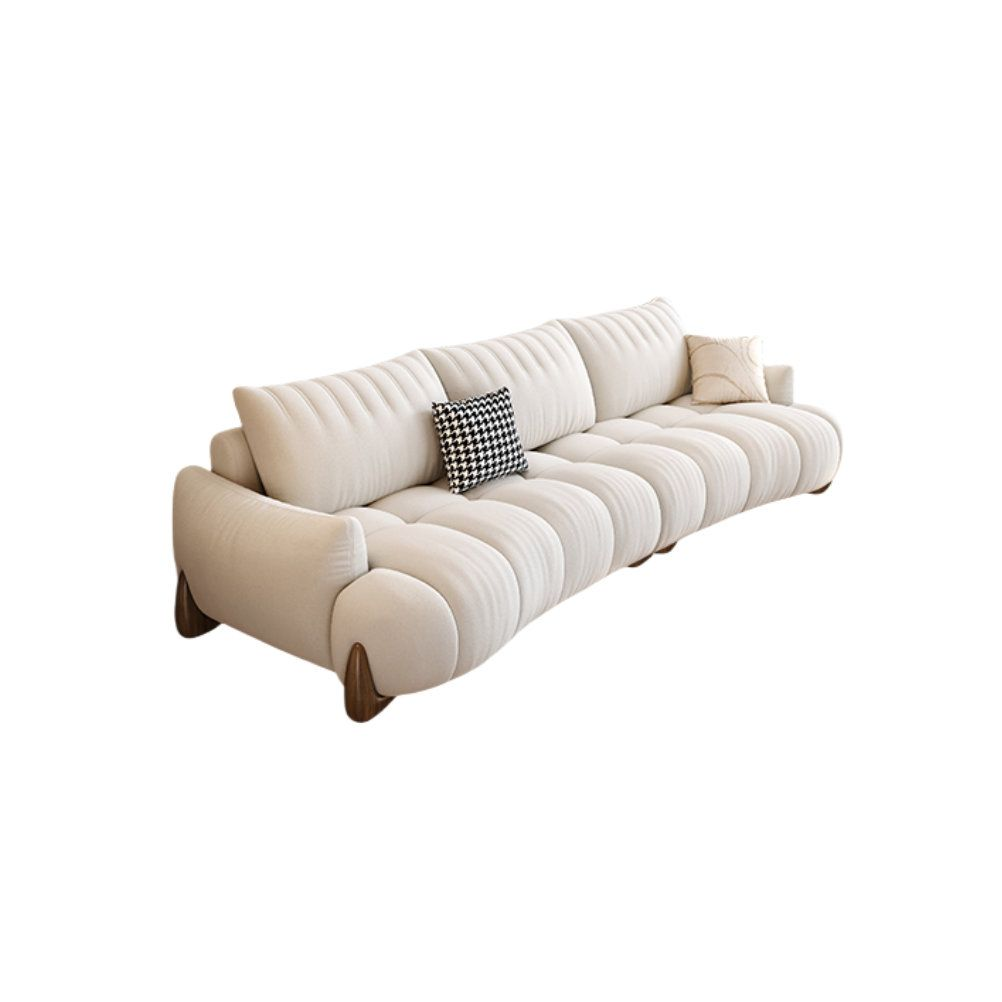3seatersofa: (174, 299, 841, 720), (175, 467, 368, 665)
backrest: (200, 298, 688, 510)
leftarmrest: (765, 367, 794, 404)
leg: (345, 644, 393, 721), (175, 572, 219, 636), (628, 553, 652, 566)
pillow: (433, 386, 527, 493), (688, 337, 768, 402)
rightarmrest: (175, 468, 367, 666)
seat: (325, 390, 835, 692)
